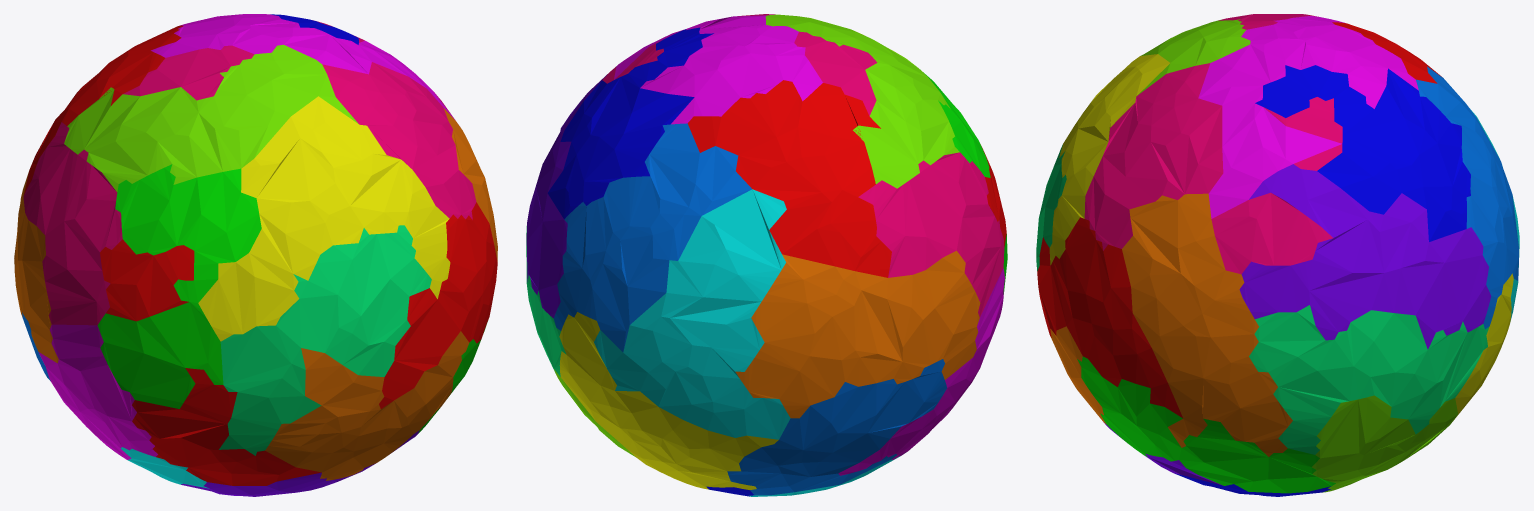
The model's file is SphereH_nanite_LOD3.fbx.
The picture shows the model from 3 angles, left to right: view 1: azimuth 30°, elevation 25°; view 2: azimuth 150°, elevation 25°; view 3: azimuth 270°, elevation 25°; orthographic projection.
Size of the model in its own units: 2 by 2 by 2.
